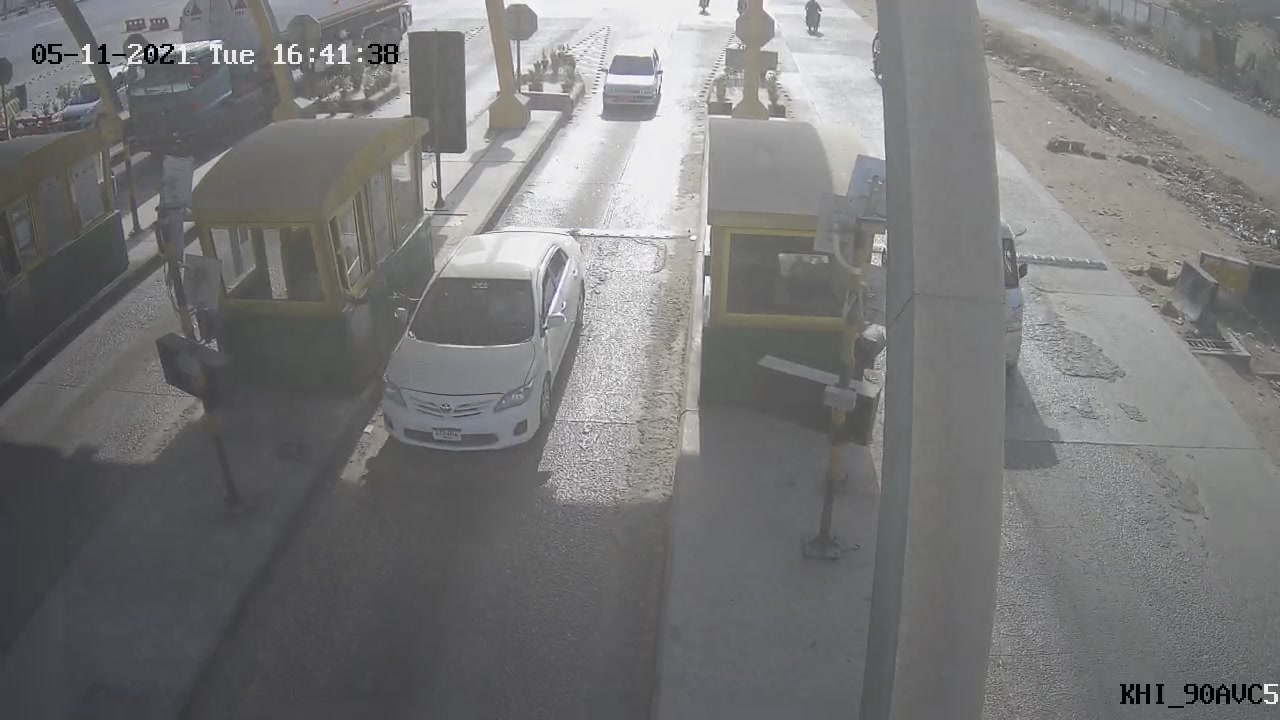F1: (351, 209, 609, 468), (587, 36, 672, 131)
